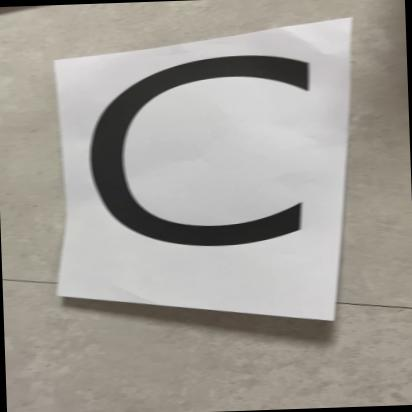seat: (61, 38, 412, 319)
